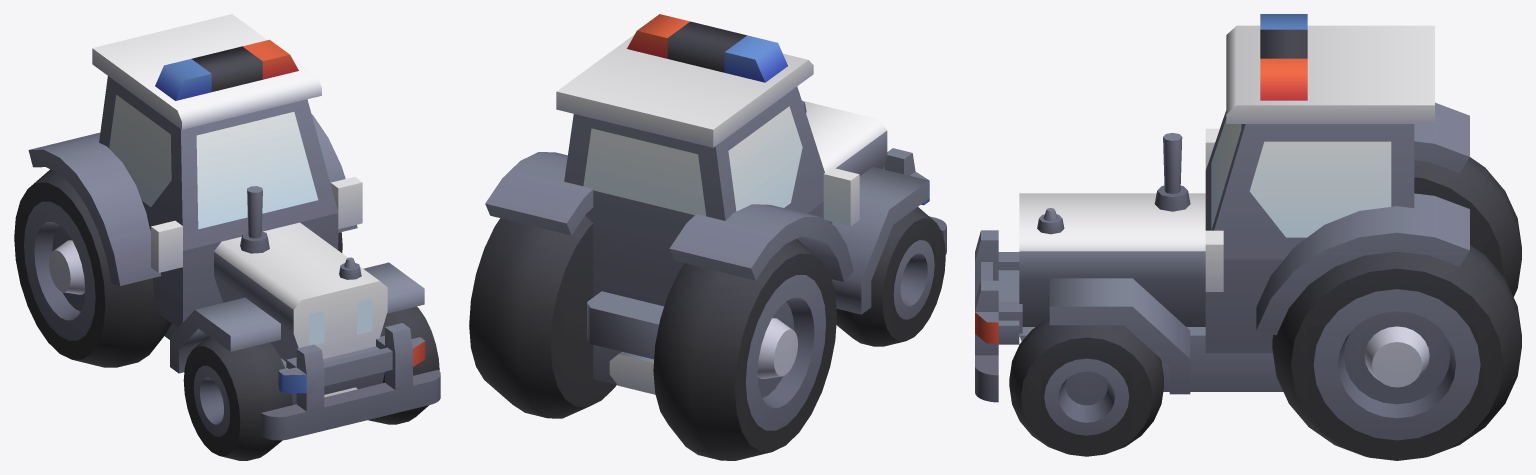
The model's file is mod-trator-policia.gltf.
3 views of the same model, side by side, from view 1: azimuth 30°, elevation 25°; view 2: azimuth 150°, elevation 25°; view 3: azimuth 270°, elevation 25° (orthographic). The views are drawn at different scales.
Parts seen in each view (by area): view 1: wheel-front-right; view 2: wheel-front-right; view 3: wheel-front-right.
Boxes of the visible parts, x1,y1,x2,y2 form: wheel-front-right: (14,14,440,460); wheel-front-right: (469,14,946,460); wheel-front-right: (975,14,1521,460).
Size of the model in its own units: 1.29 by 1.63 by 2.21.
1 material, 1 textured.
